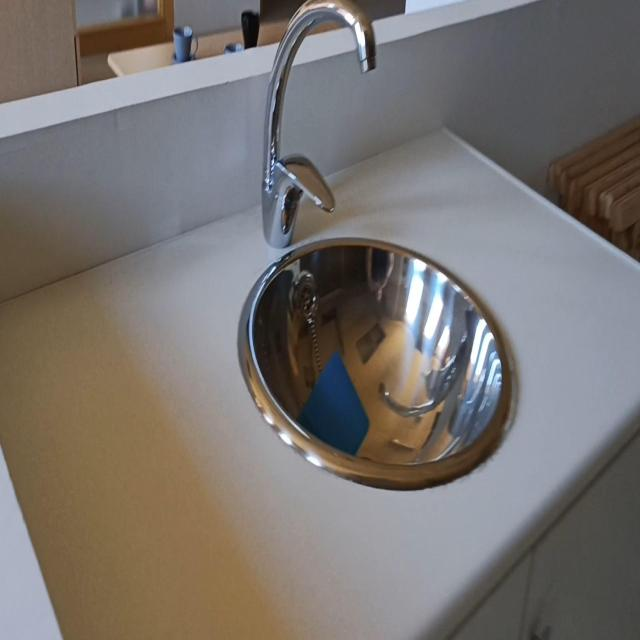cup: (294, 341, 375, 461)
